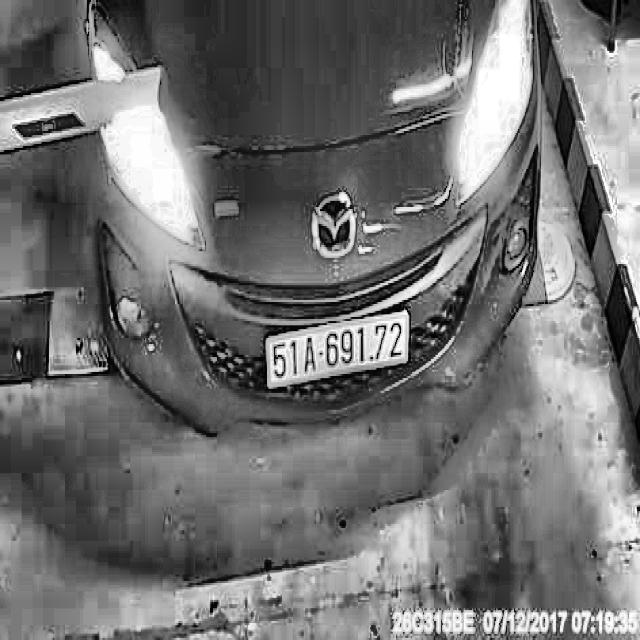plate: (265, 308, 412, 392)
